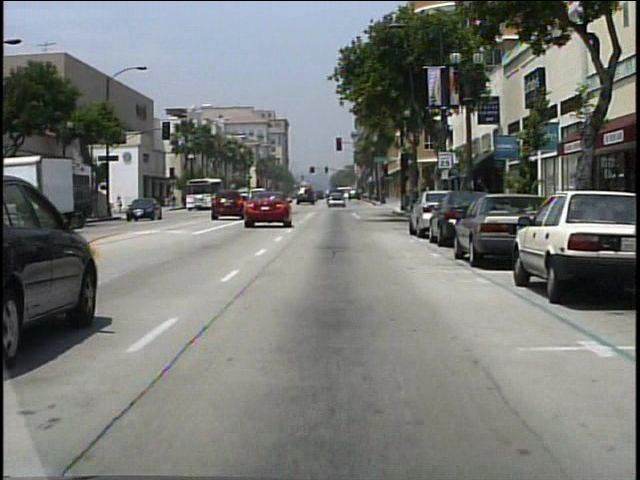person: (117, 196, 126, 217)
